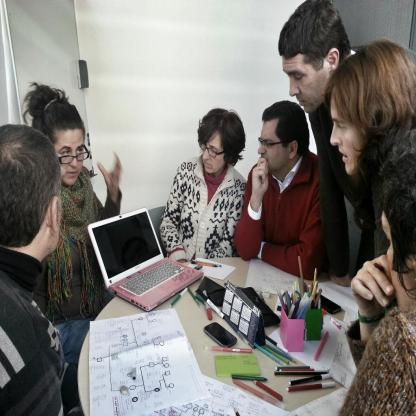board: (82, 202, 207, 314)
